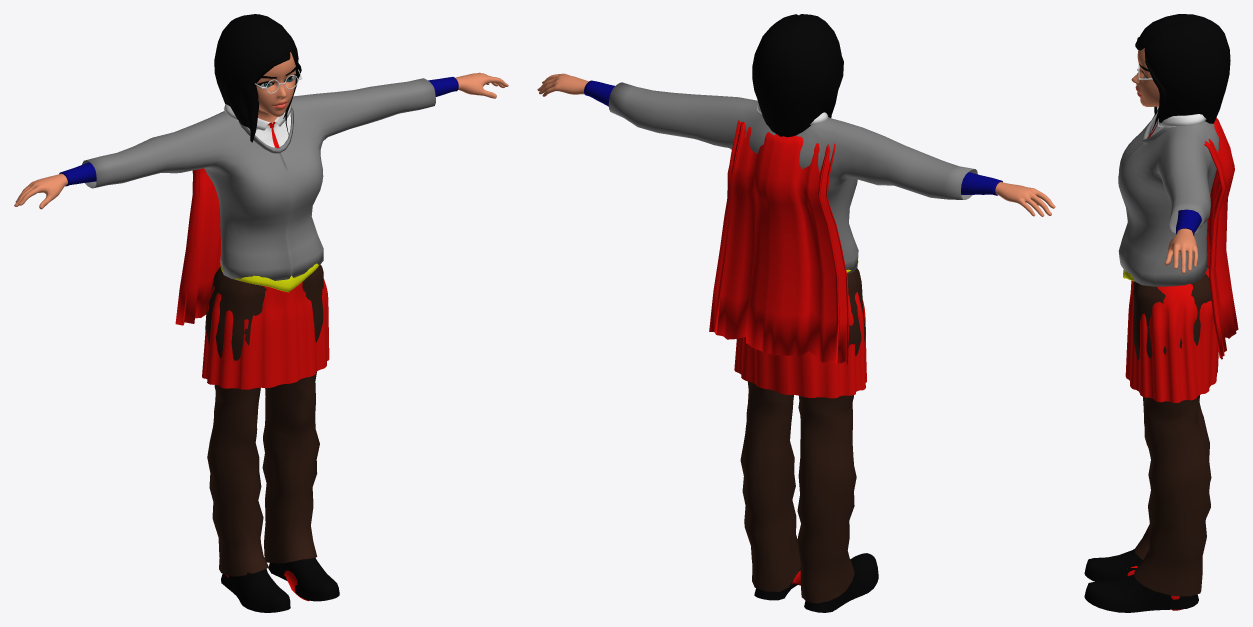
The picture shows the model from 3 angles, left to right: view 1: azimuth 30°, elevation 25°; view 2: azimuth 150°, elevation 25°; view 3: azimuth 270°, elevation 25°; orthographic projection. The views are drawn at different scales.
Parts seen in each view (by area): view 1: Shirt_Sweter, Harry PAnt, Skirt, Hair, Supergirl_Suit, Harry_Shoes, Body; view 2: Supergirl_Suit, Harry PAnt, Shirt_Sweter, Hair, Skirt, Body, Harry_Shoes; view 3: Harry PAnt, Shirt_Sweter, Skirt, Hair, Supergirl_Suit, Harry_Shoes, Body.
Boxes of the visible parts, <box> form: Shirt_Sweter: <box>82,78,435,281</box>; Harry PAnt: <box>205,264,323,576</box>; Skirt: <box>202,263,329,389</box>; Hair: <box>214,14,301,142</box>; Supergirl_Suit: <box>59,77,458,325</box>; Harry_Shoes: <box>221,558,339,612</box>; Body: <box>14,52,508,209</box>; Supergirl_Suit: <box>584,80,1002,364</box>; Harry PAnt: <box>740,268,865,603</box>; Shirt_Sweter: <box>608,82,977,273</box>; Hair: <box>752,14,843,137</box>; Skirt: <box>734,260,866,398</box>; Body: <box>537,73,1055,216</box>; Harry_Shoes: <box>754,553,878,612</box>; Harry PAnt: <box>1133,265,1211,596</box>; Shirt_Sweter: <box>1118,106,1218,286</box>; Skirt: <box>1123,267,1218,402</box>; Hair: <box>1135,14,1230,135</box>; Supergirl_Suit: <box>1176,118,1238,359</box>; Harry_Shoes: <box>1084,549,1198,612</box>; Body: <box>1131,48,1197,273</box>.
Size of the model in its own units: 125 by 137 by 33.2.
